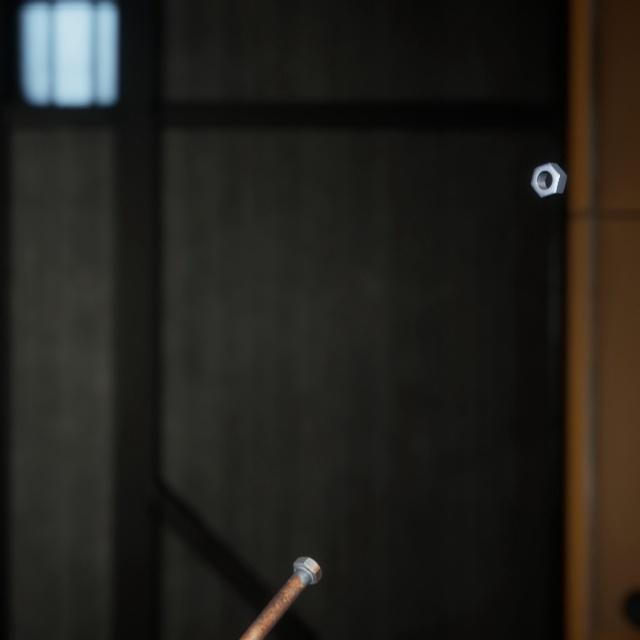bolt: (214, 528, 326, 640)
nut: (526, 144, 571, 188)
